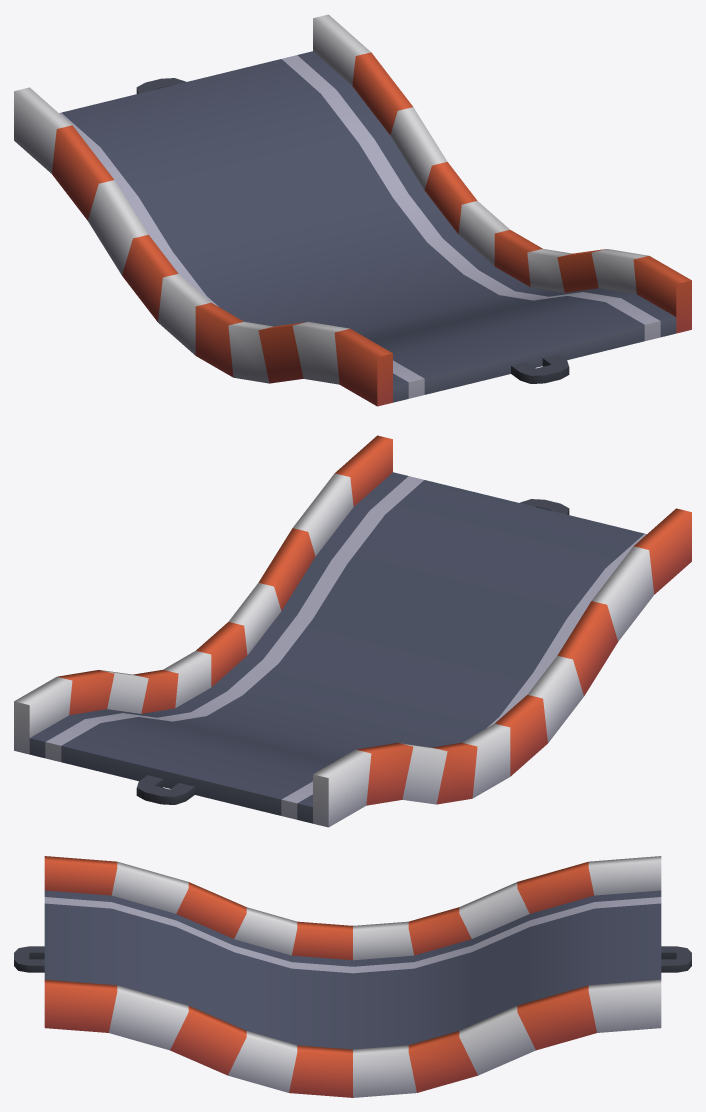
The model's file is track-road-wide-straight-bump-down.glb.
3 renders of one model, top to bottom at view 1: azimuth 30°, elevation 25°; view 2: azimuth 150°, elevation 25°; view 3: azimuth 270°, elevation 25°, orthographic. The views are drawn at different scales.
Parts seen in each view (by area): view 1: track-road-wide-straight-bump-down; view 2: track-road-wide-straight-bump-down; view 3: track-road-wide-straight-bump-down.
Boxes of the visible parts, x1,y1,x2,y2 form: track-road-wide-straight-bump-down: [14, 14, 691, 406]; track-road-wide-straight-bump-down: [14, 435, 691, 827]; track-road-wide-straight-bump-down: [14, 856, 691, 1097].
Bounding box in the file's own units: 2 × 0.8 × 4.4.
